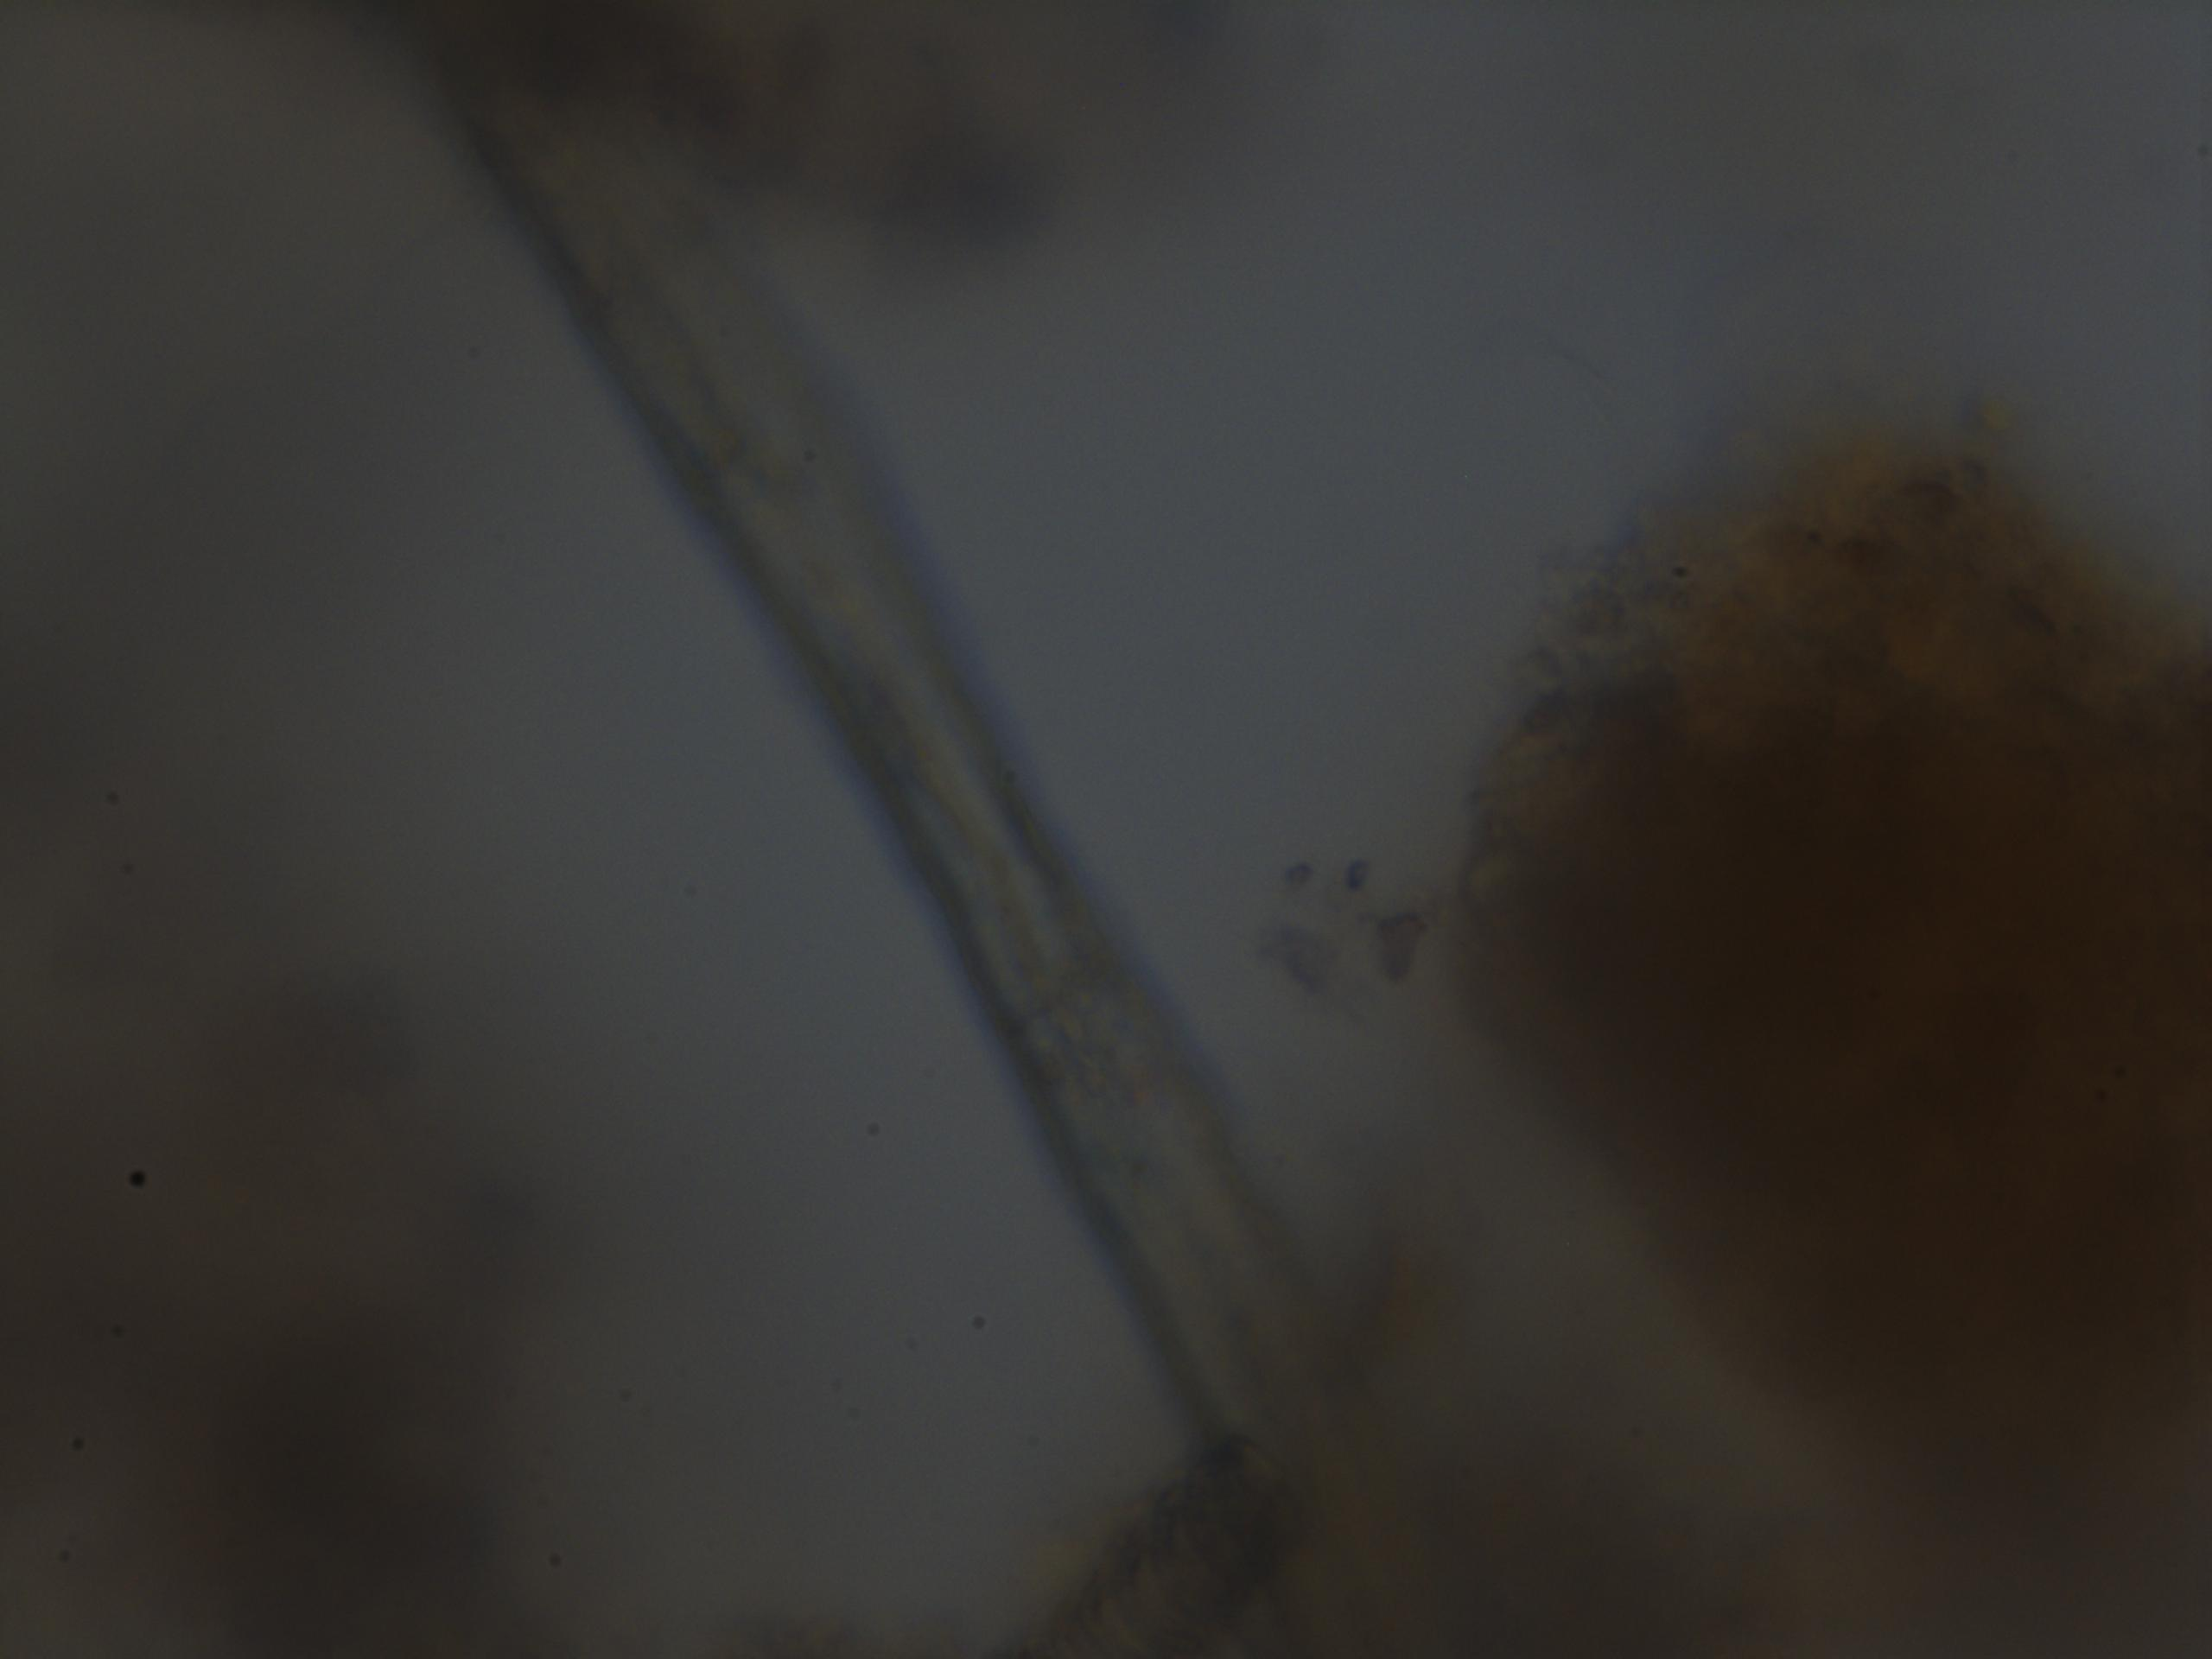spherical_floc: (1468, 394, 2212, 1486)
